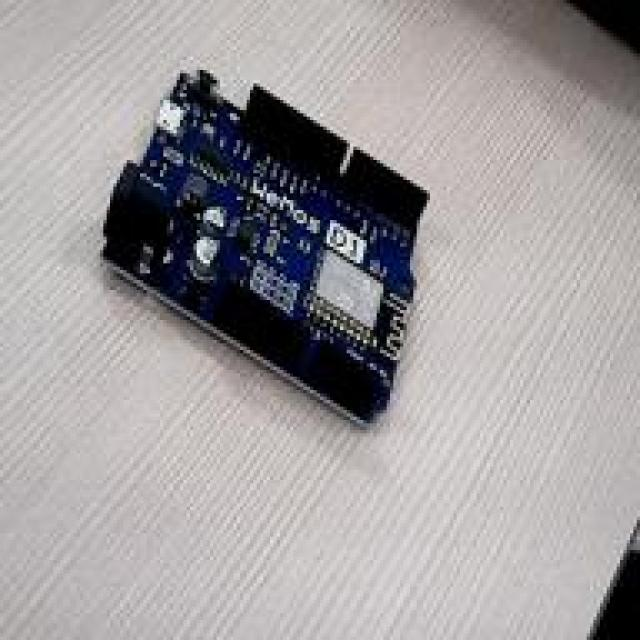Wemos: (104, 71, 424, 421)
